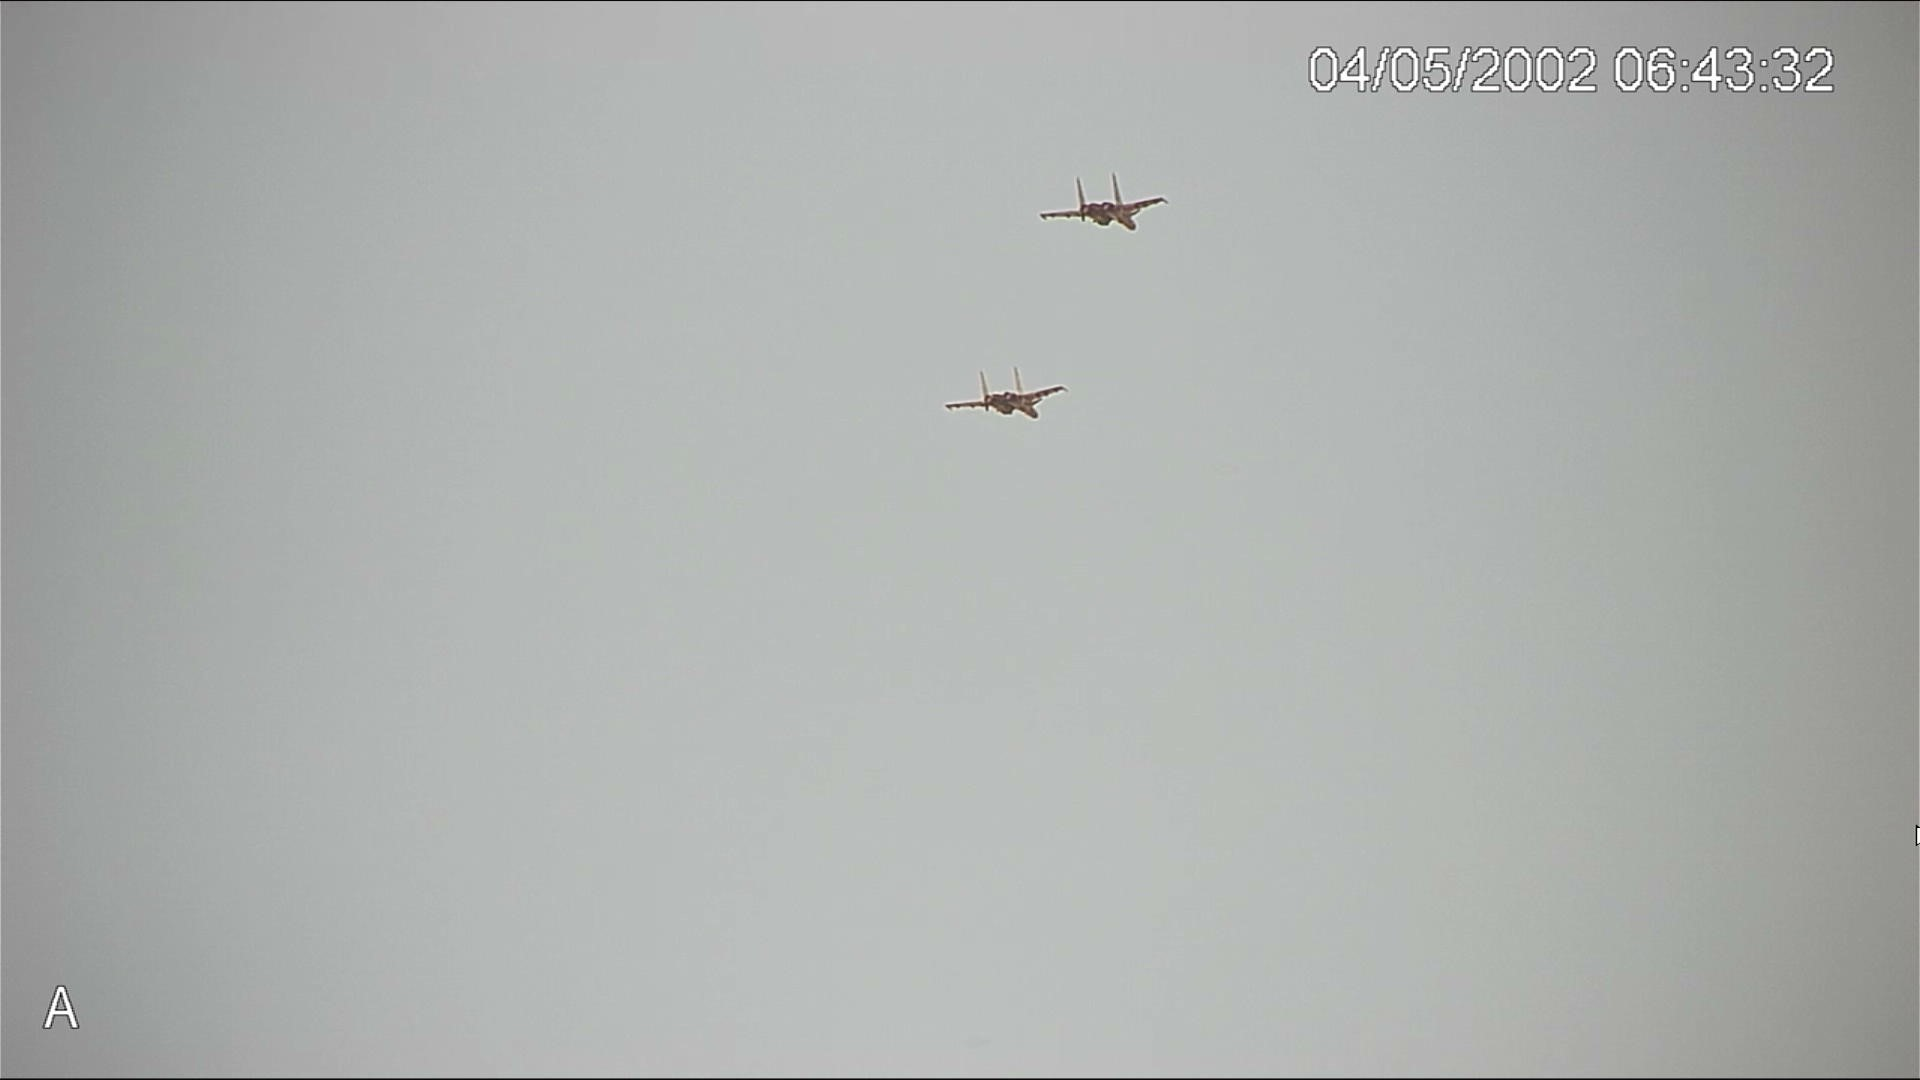SU_30: (1044, 175, 1174, 236), (945, 365, 1075, 425)
